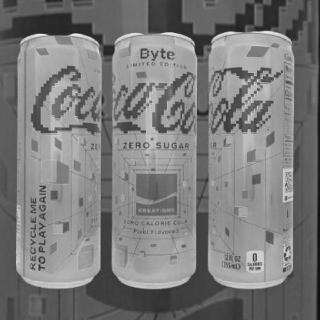alumunium_can: (107, 28, 201, 288), (206, 29, 299, 290), (15, 31, 107, 290)
